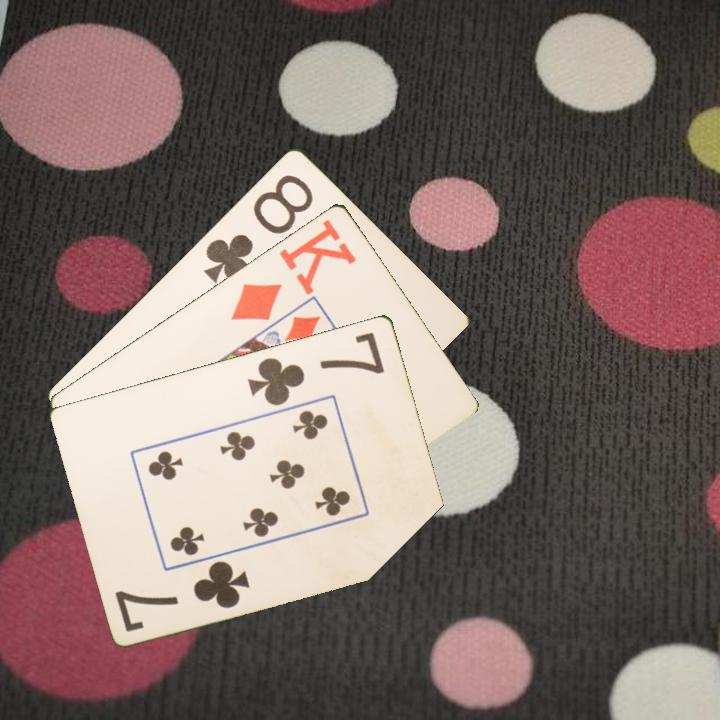7c: (244, 328, 388, 409), (111, 556, 253, 635)
8c: (199, 170, 317, 286)
Kd: (227, 215, 360, 323)
